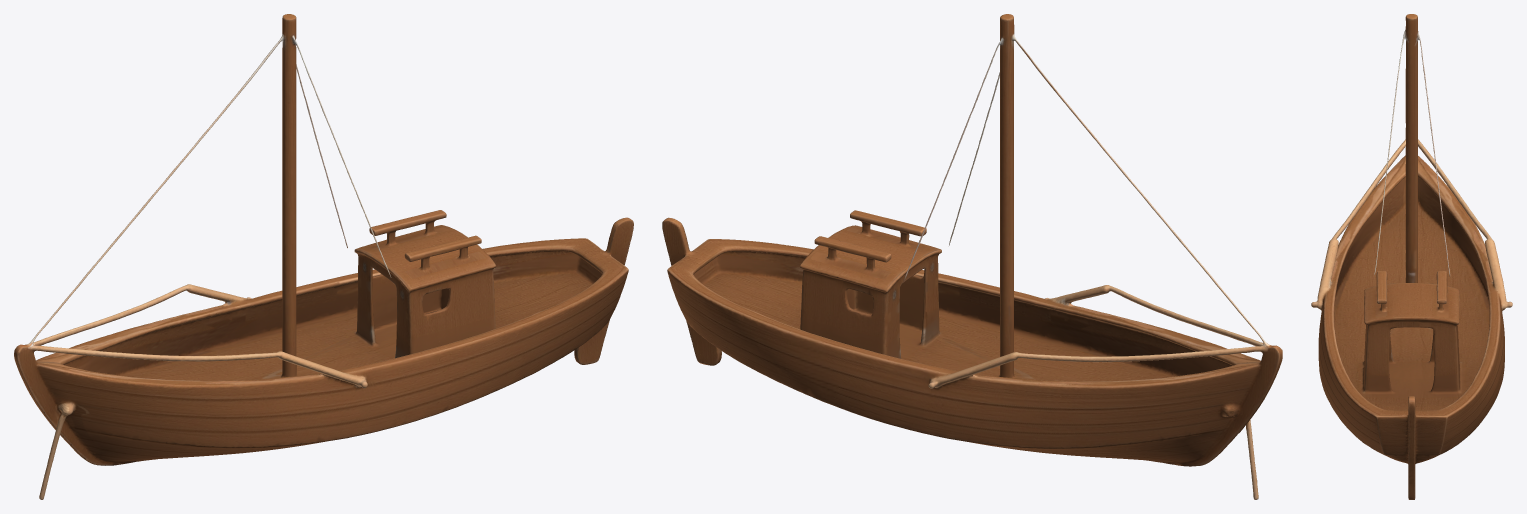
The model's file is costeiro_barco.glb.
The picture shows the model from 3 angles, left to right: view 1: azimuth 30°, elevation 25°; view 2: azimuth 150°, elevation 25°; view 3: azimuth 270°, elevation 25°; orthographic projection. The views are drawn at different scales.
Bounding box in the file's own units: 1.88 × 1.23 × 0.6259.
1 material, 1 textured.
